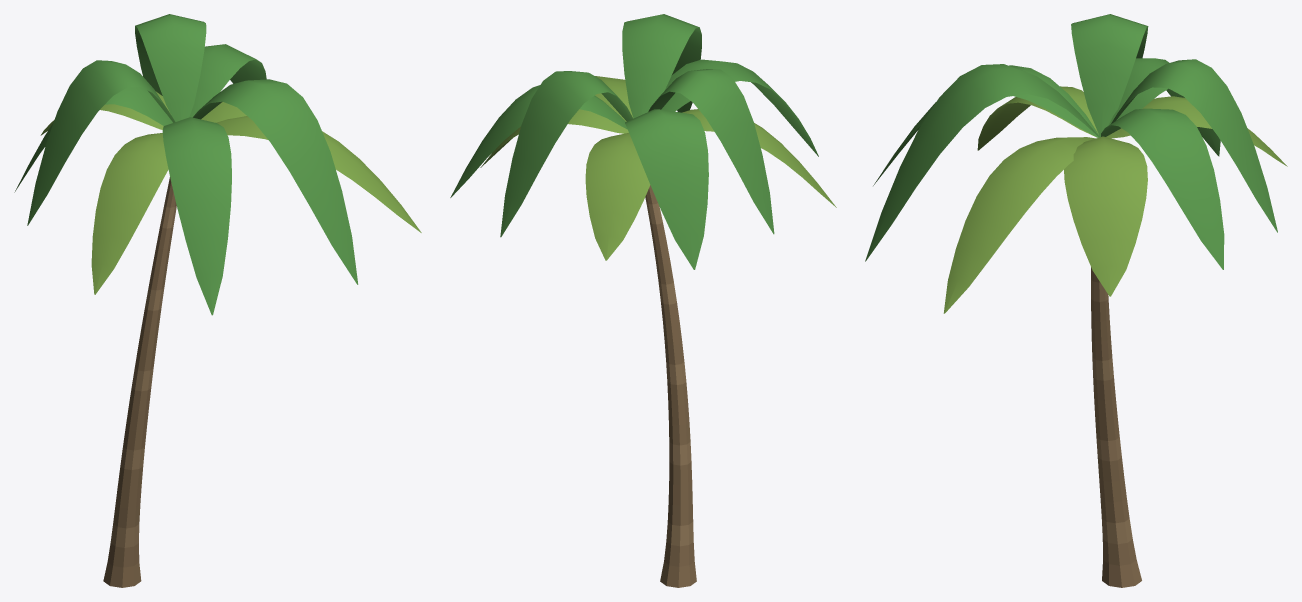
The model's file is SM_Palm_03.glb.
The picture shows the model from 3 angles, left to right: view 1: azimuth 30°, elevation 25°; view 2: azimuth 150°, elevation 25°; view 3: azimuth 270°, elevation 25°; orthographic projection. The views are drawn at different scales.
Parts seen in each view (by area): view 1: SM_Palm_03; view 2: SM_Palm_03; view 3: SM_Palm_03.
Part boxes in pixels (x1,y1,x2,y2): SM_Palm_03: (14, 14, 421, 587); SM_Palm_03: (450, 14, 836, 587); SM_Palm_03: (865, 14, 1287, 587).
Size of what is drawn, in the model's own units: 4.8 by 7.71 by 5.31.
